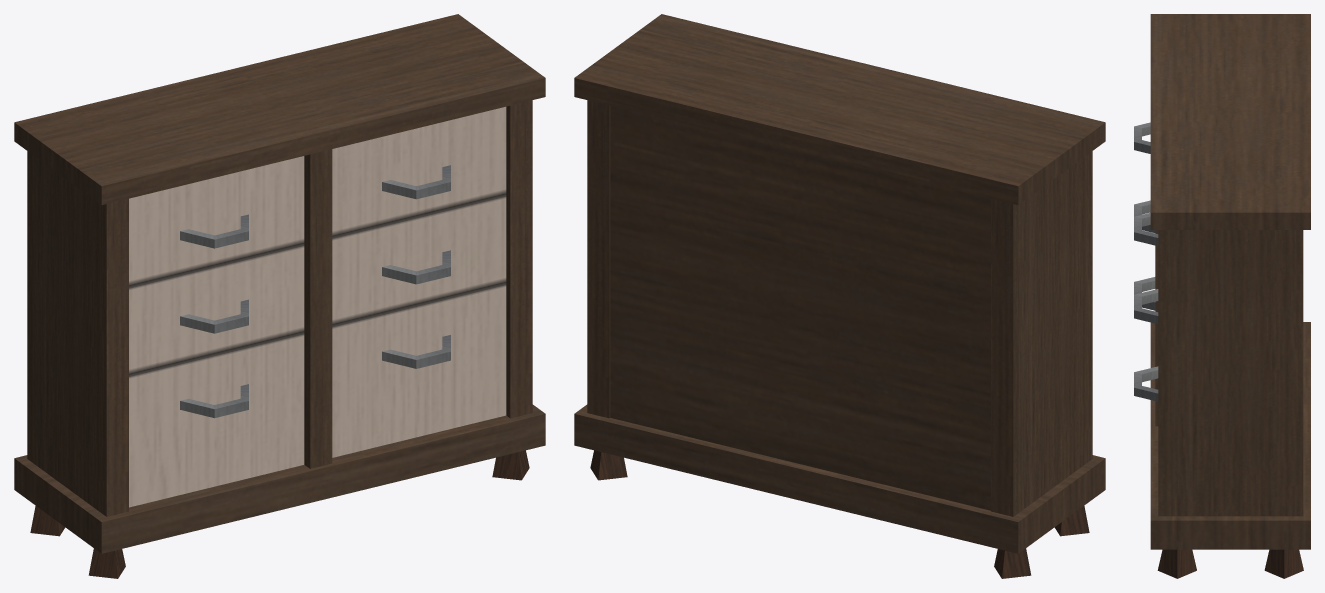
Rendered from Drawer_1A.fbx.
The picture shows the model from 3 angles, left to right: view 1: azimuth 30°, elevation 25°; view 2: azimuth 150°, elevation 25°; view 3: azimuth 270°, elevation 25°; orthographic projection. The views are drawn at different scales.
Parts seen in each view (by area): view 1: polySurface1501; view 2: polySurface1501; view 3: polySurface1501.
Boxes of the visible parts, x1,y1,x2,y2 form: polySurface1501: (14, 14, 545, 578); polySurface1501: (574, 14, 1105, 578); polySurface1501: (1134, 14, 1310, 578).
Bounding box in the file's own units: 2.2 × 1.9 × 0.8282.
